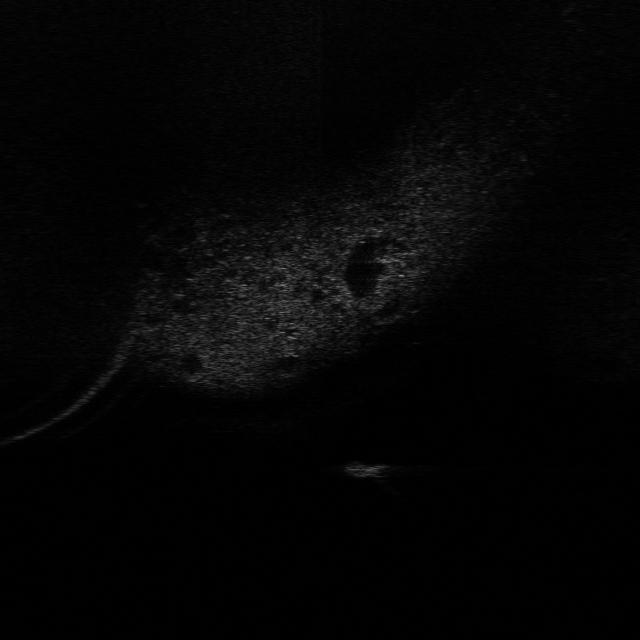cube: (336, 457, 393, 480)
